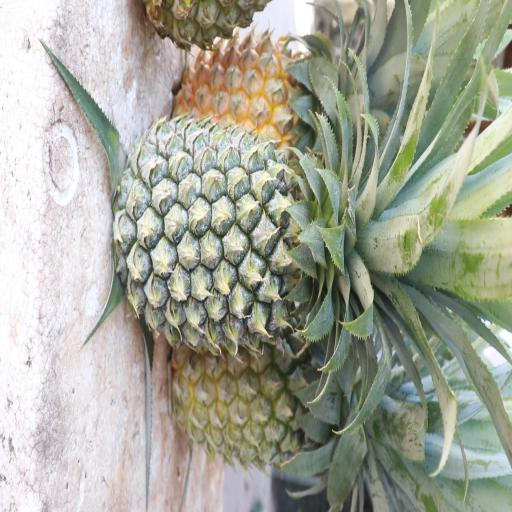------------------------------: (170, 333, 372, 470)
Pineapple - v8 v1: (178, 25, 356, 159)
